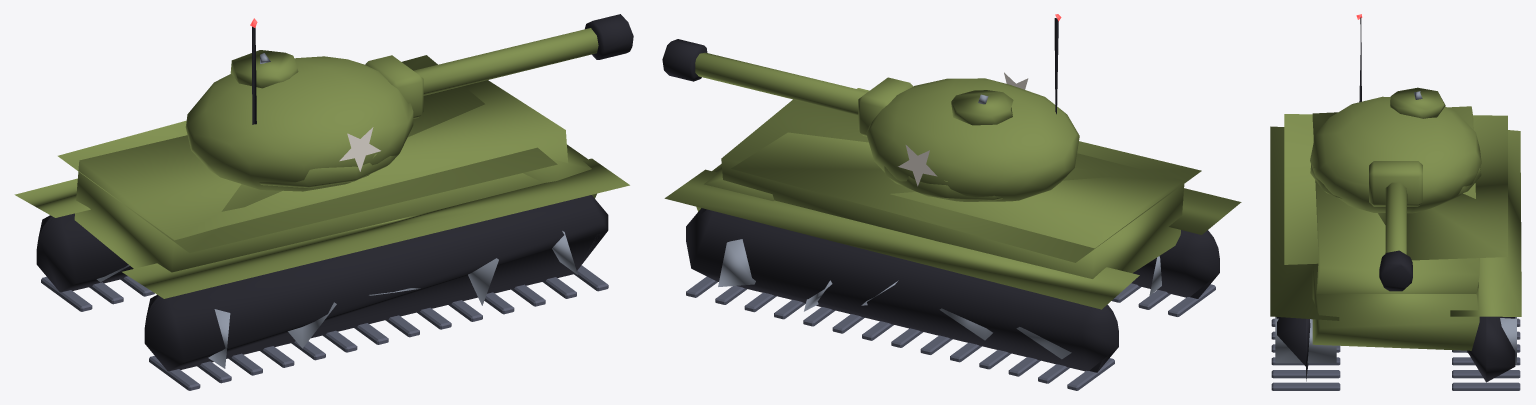
File: tank.glb
The picture shows the model from 3 angles, left to right: view 1: azimuth 30°, elevation 25°; view 2: azimuth 150°, elevation 25°; view 3: azimuth 270°, elevation 25°; orthographic projection. The views are drawn at different scales.
Visible parts, largest first — view 1: tank.022, turret.008, barrel.015; view 2: tank.022, turret.008, barrel.015; view 3: tank.022, turret.008, barrel.015.
Boxes of the visible parts, bbox=[...] form: tank.022: bbox=[14, 55, 629, 390]; turret.008: bbox=[185, 18, 423, 191]; barrel.015: bbox=[413, 14, 633, 95]; tank.022: bbox=[664, 88, 1241, 390]; turret.008: bbox=[858, 14, 1079, 201]; barrel.015: bbox=[662, 39, 867, 115]; tank.022: bbox=[1270, 106, 1521, 390]; turret.008: bbox=[1310, 14, 1481, 213]; barrel.015: bbox=[1379, 182, 1412, 291].
Size of the model in its own units: 7.17 by 3.9 by 3.49.
Materials: 1 (1 with a texture image).
